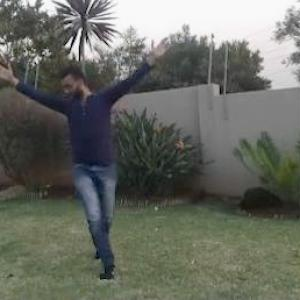takeoff: (1, 14, 227, 281)
